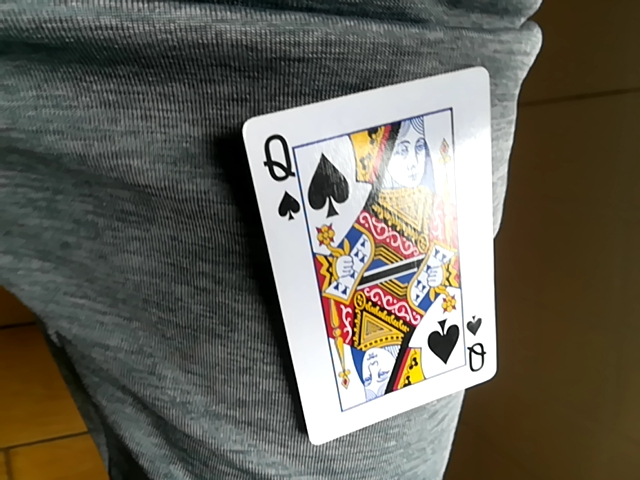ht q: (241, 66, 505, 454)
